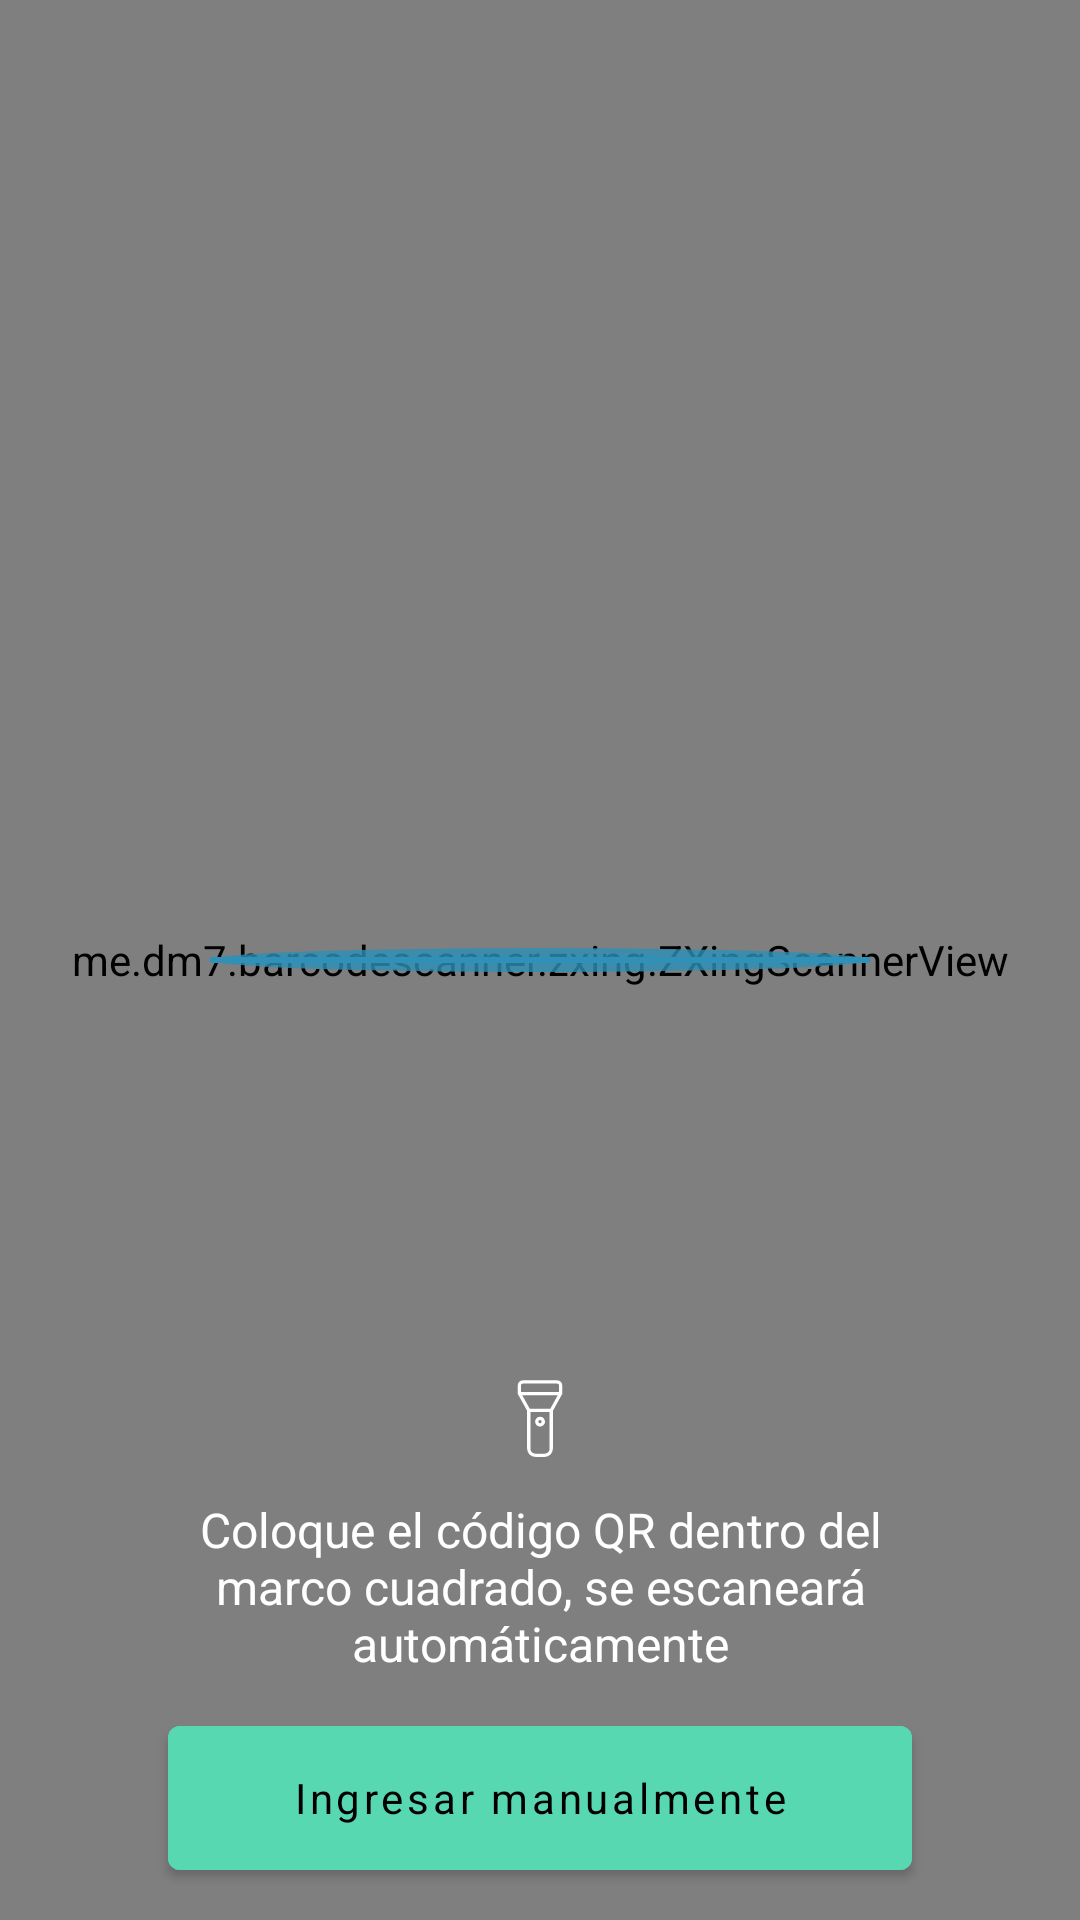

Where to tap for icons on this 1080px×1920px app screen, as [x,y]:
torch off: [540,1418]
